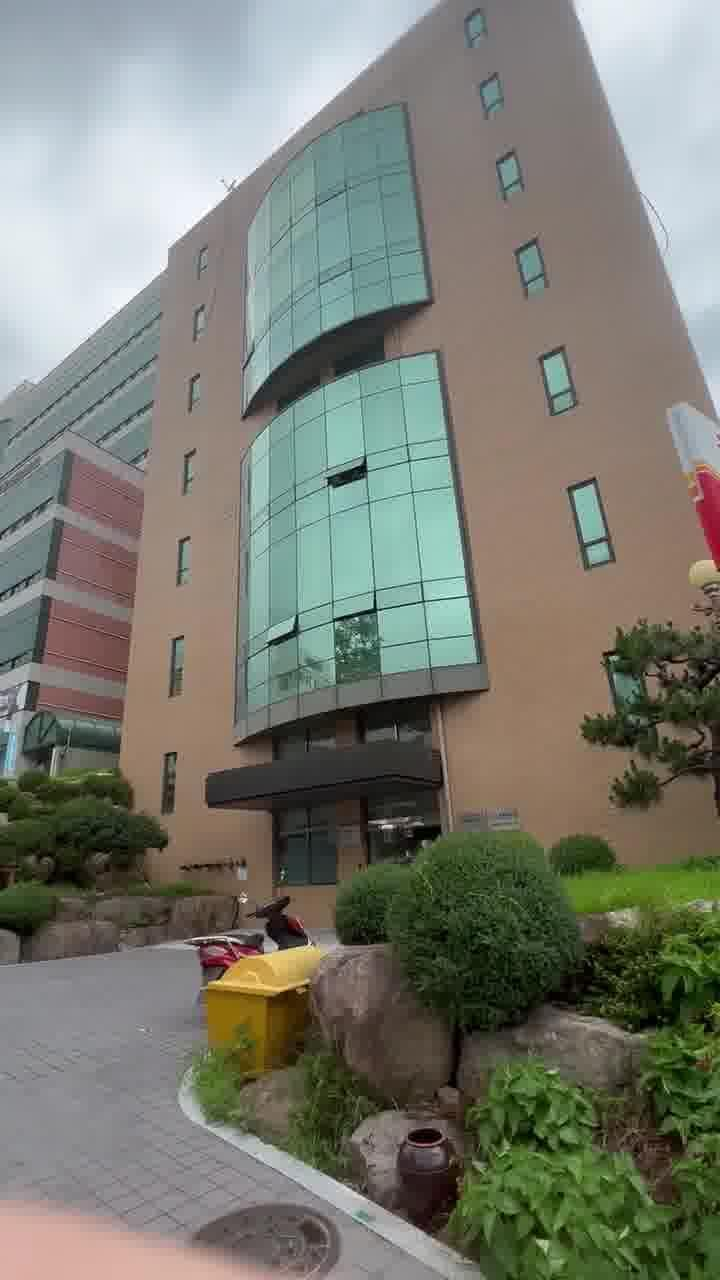building: (170, 124, 546, 810)
